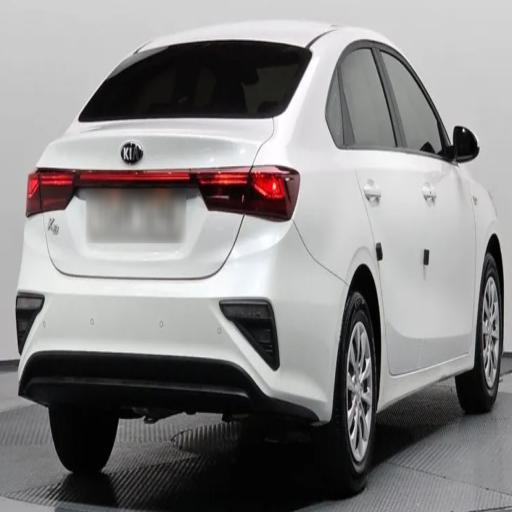normal: (8, 10, 508, 505)
